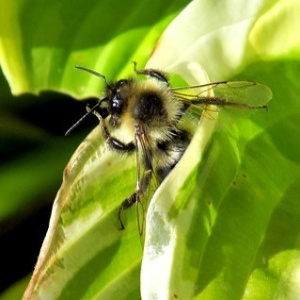bee: (77, 60, 184, 166)
